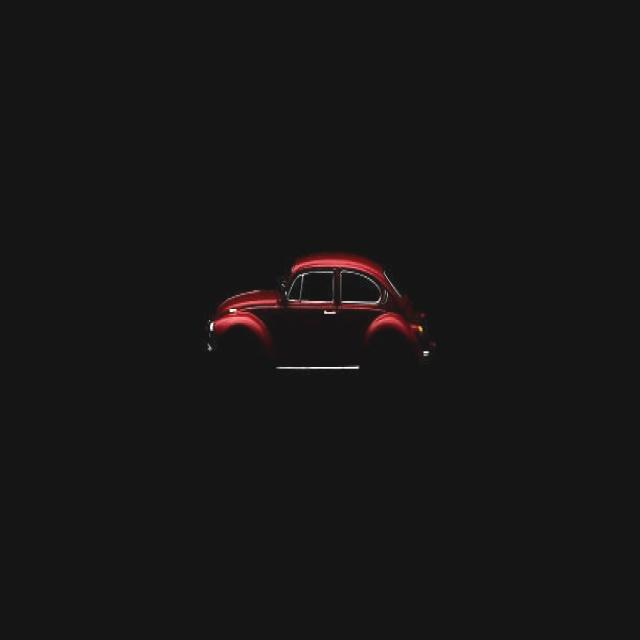car: (212, 260, 439, 393)
